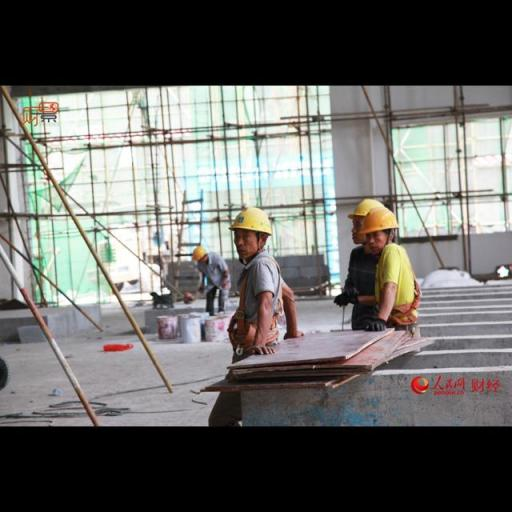Person: (216, 196, 302, 386), (353, 196, 429, 338), (180, 230, 228, 332)
helmet: (224, 200, 282, 237), (359, 204, 408, 246), (346, 192, 392, 226), (186, 240, 211, 268)
vest: (222, 260, 288, 352), (364, 240, 424, 334)
